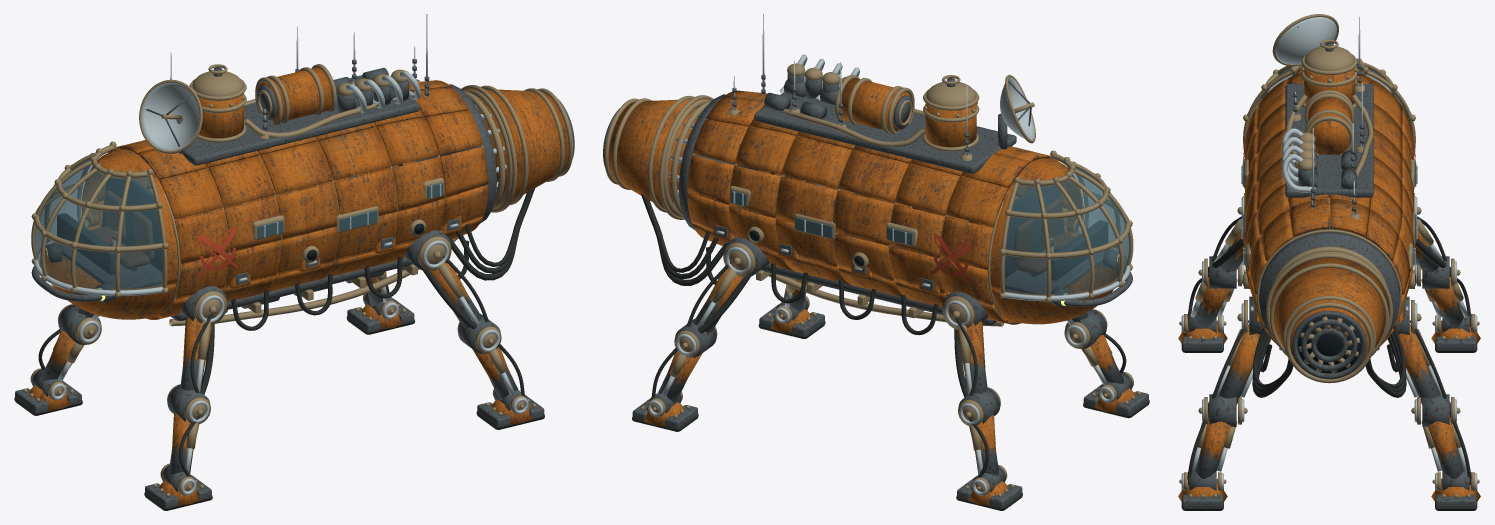
Rendered from walker.glb.
3 views of the same model, side by side, from view 1: azimuth 30°, elevation 25°; view 2: azimuth 150°, elevation 25°; view 3: azimuth 270°, elevation 25° (orthographic). The views are drawn at different scales.
Parts seen in each view (by area): view 1: hull_and_armor__weathered_ochre_enamel, cockpit_and_glazing__Cockpit_Glass_SmokeBlue, hull_and_armor__pale_service_panels, roof_machinery_and_communications__gunmetal, cockpit_and_glazing__aged_brass_trim, roof_machinery_and_communications__aged_brass_trim, open_cockpit_shell__weathered_ochre_enamel, rear_power_module__weathered_ochre_enamel, roof_machinery_and_communications__exposed_piston_steel, rear_power_module__aged_brass_trim, roof_machinery_and_communications__weathered_ochre_enamel, Cockpit_Interior__Cockpit_Instrument_Charcoal (+28 smaller); view 2: hull_and_armor__weathered_ochre_enamel, cockpit_and_glazing__Cockpit_Glass_SmokeBlue, roof_machinery_and_communications__gunmetal, cockpit_and_glazing__aged_brass_trim, roof_machinery_and_communications__aged_brass_trim, open_cockpit_shell__weathered_ochre_enamel, hull_and_armor__pale_service_panels, rear_power_module__weathered_ochre_enamel, rear_power_module__aged_brass_trim, roof_machinery_and_communications__weathered_ochre_enamel, Cockpit_Interior__Cockpit_Instrument_Charcoal, hull_service_fittings__aged_brass_trim (+28 smaller); view 3: hull_and_armor__weathered_ochre_enamel, rear_power_module__gunmetal, rear_power_module__aged_brass_trim, rear_power_module__weathered_ochre_enamel, roof_machinery_and_communications__aged_brass_trim, roof_machinery_and_communications__gunmetal, roof_machinery_and_communications__exposed_piston_steel, hull_and_armor__pale_service_panels, roof_machinery_and_communications__weathered_ochre_enamel, rear_power_module__rubber_hoses, cockpit_and_glazing__aged_brass_trim, Leg_Rear_Port_Lower__gunmetal (+30 smaller).
Boxes of the visible parts, x1,y1,x2,y2 form: hull_and_armor__weathered_ochre_enamel: [98, 86, 488, 319]; cockpit_and_glazing__Cockpit_Glass_SmokeBlue: [35, 159, 163, 290]; hull_and_armor__pale_service_panels: [98, 80, 449, 318]; roof_machinery_and_communications__gunmetal: [146, 59, 429, 165]; cockpit_and_glazing__aged_brass_trim: [31, 141, 168, 297]; roof_machinery_and_communications__aged_brass_trim: [139, 64, 420, 153]; open_cockpit_shell__weathered_ochre_enamel: [40, 149, 177, 319]; rear_power_module__weathered_ochre_enamel: [463, 88, 568, 209]; roof_machinery_and_communications__exposed_piston_steel: [141, 14, 428, 150]; rear_power_module__aged_brass_trim: [461, 85, 573, 212]; roof_machinery_and_communications__weathered_ochre_enamel: [198, 67, 332, 138]; Cockpit_Interior__Cockpit_Instrument_Charcoal: [57, 178, 162, 274]; hull_and_armor__weathered_ochre_enamel: [687, 90, 1068, 324]; cockpit_and_glazing__Cockpit_Glass_SmokeBlue: [1004, 167, 1129, 295]; roof_machinery_and_communications__gunmetal: [732, 73, 1031, 173]; cockpit_and_glazing__aged_brass_trim: [999, 150, 1133, 302]; roof_machinery_and_communications__aged_brass_trim: [729, 63, 1035, 160]; open_cockpit_shell__weathered_ochre_enamel: [990, 158, 1124, 324]; hull_and_armor__pale_service_panels: [706, 96, 1018, 270]; rear_power_module__weathered_ochre_enamel: [608, 99, 711, 216]; rear_power_module__aged_brass_trim: [604, 95, 713, 219]; roof_machinery_and_communications__weathered_ochre_enamel: [839, 78, 976, 147]; Cockpit_Interior__Cockpit_Instrument_Charcoal: [1005, 186, 1108, 280]; hull_service_fittings__aged_brass_trim: [730, 163, 1004, 326]; hull_and_armor__weathered_ochre_enamel: [1245, 72, 1413, 345]; rear_power_module__gunmetal: [1259, 232, 1399, 379]; rear_power_module__aged_brass_trim: [1266, 246, 1392, 383]; rear_power_module__weathered_ochre_enamel: [1269, 258, 1389, 369]; roof_machinery_and_communications__aged_brass_trim: [1272, 14, 1373, 219]; roof_machinery_and_communications__gunmetal: [1285, 26, 1373, 211]; roof_machinery_and_communications__exposed_piston_steel: [1275, 17, 1363, 215]; hull_and_armor__pale_service_panels: [1245, 108, 1413, 237]; roof_machinery_and_communications__weathered_ochre_enamel: [1304, 68, 1354, 154]; rear_power_module__rubber_hoses: [1252, 327, 1406, 397]; cockpit_and_glazing__aged_brass_trim: [1243, 58, 1415, 162]; Leg_Rear_Port_Lower__gunmetal: [1195, 394, 1236, 478].
Bounding box in the file's own units: 8.9 × 6.09 × 4.64.
14 materials, 4 textured.
